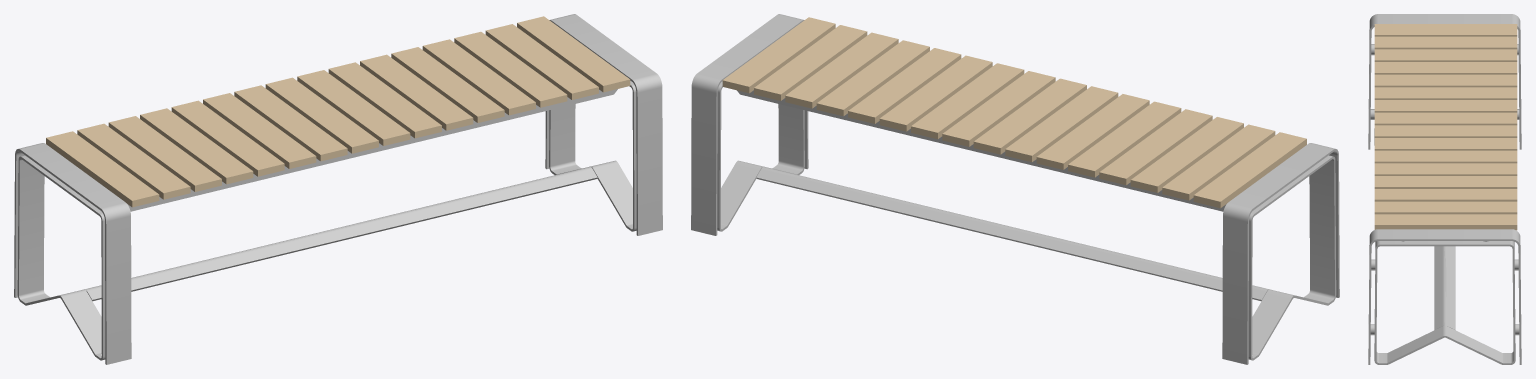
3 views of the same model, side by side, from view 1: azimuth 30°, elevation 25°; view 2: azimuth 150°, elevation 25°; view 3: azimuth 270°, elevation 25° (orthographic). The views are drawn at different scales.
Visible parts, largest first — view 1: mesh1_mesh1-geometry, mesh15_mesh15-geometry, mesh12_mesh12-geometry, mesh3_mesh3-geometry, mesh5_mesh5-geometry; view 2: mesh1_mesh1-geometry, mesh15_mesh15-geometry, mesh12_mesh12-geometry, mesh3_mesh3-geometry, mesh7_mesh7-geometry; view 3: mesh1_mesh1-geometry, mesh15_mesh15-geometry, mesh12_mesh12-geometry, mesh3_mesh3-geometry, mesh9_mesh9-geometry.
Boxes of the visible parts, x1,y1,x2,y2 form: mesh1_mesh1-geometry: [46, 16, 630, 207]; mesh15_mesh15-geometry: [14, 14, 662, 364]; mesh12_mesh12-geometry: [17, 81, 636, 360]; mesh3_mesh3-geometry: [84, 167, 597, 301]; mesh5_mesh5-geometry: [127, 89, 617, 211]; mesh1_mesh1-geometry: [722, 17, 1306, 208]; mesh15_mesh15-geometry: [691, 14, 1339, 364]; mesh12_mesh12-geometry: [717, 81, 1336, 360]; mesh3_mesh3-geometry: [756, 167, 1269, 301]; mesh7_mesh7-geometry: [737, 90, 1226, 211]; mesh1_mesh1-geometry: [1374, 24, 1517, 230]; mesh15_mesh15-geometry: [1368, 14, 1521, 364]; mesh12_mesh12-geometry: [1374, 128, 1515, 364]; mesh3_mesh3-geometry: [1434, 246, 1455, 329]; mesh9_mesh9-geometry: [1370, 44, 1519, 335].
Bounding box in the file's own units: 0.931 × 0.2478 × 0.2681.
